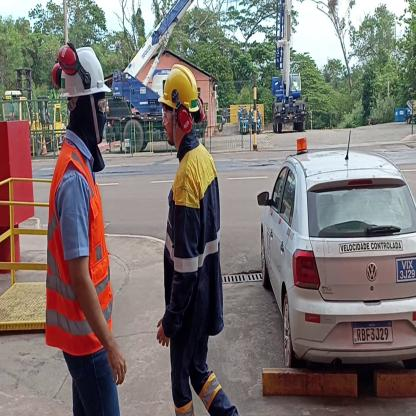Balaclava: (70, 93, 106, 142)
C_eletrica: (160, 153, 226, 338)
Capacete: (55, 43, 115, 94), (158, 63, 206, 112)
colete: (48, 143, 113, 355)
